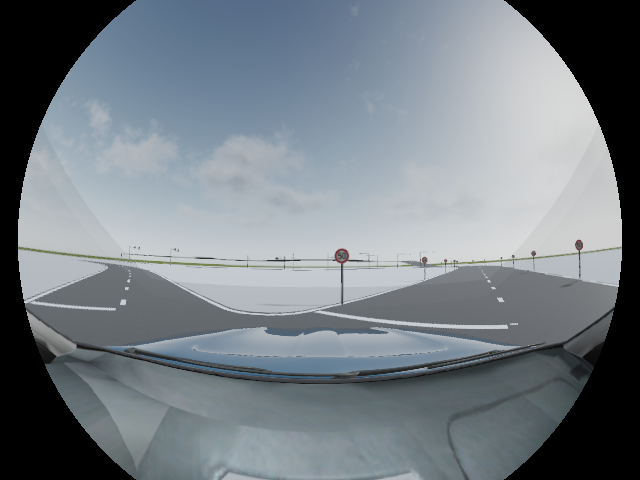Speed Limit 50: (335, 249, 349, 263)
